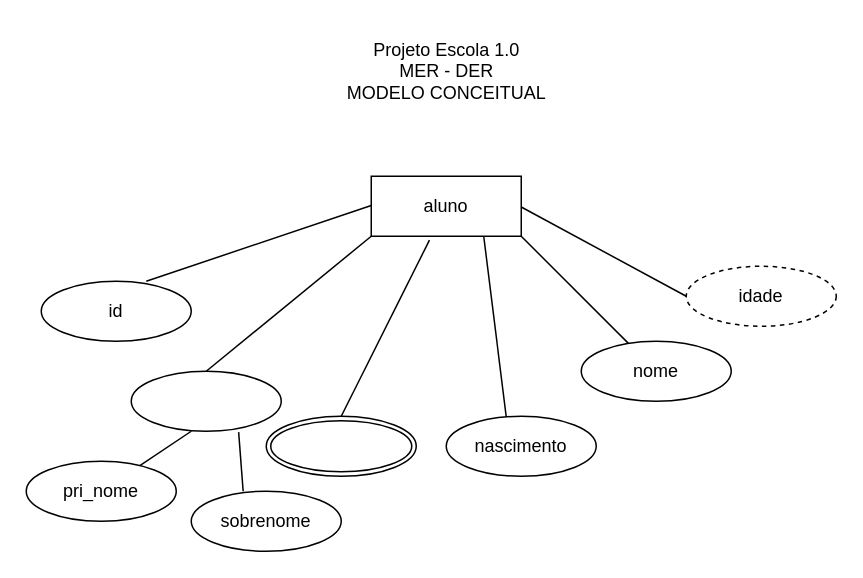
Some shapes in this 863 by 578 pixel diagram are drawn without their labels. The shapes that lost their labels are listed below. From the top down, each one's centre as x and y in pixels, then its label:
At [205,400]: "email".
At [340,445]: "telefones".
